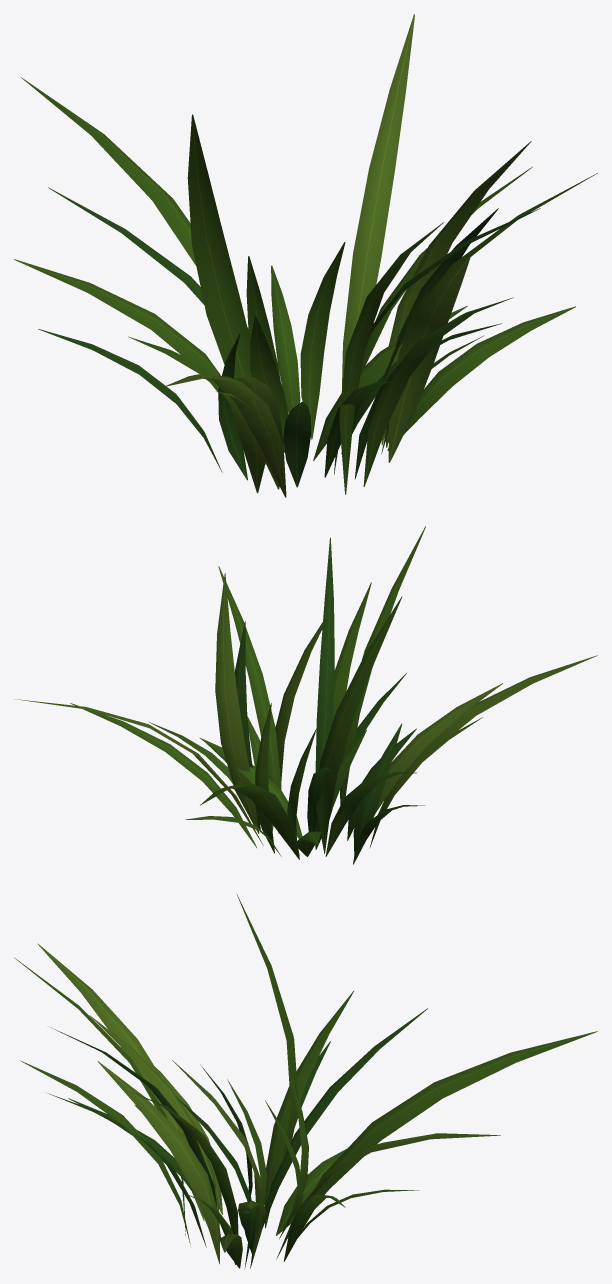
Rendered from Common_grass_1.glb.
3 views of the same model, one above another, from view 1: azimuth 30°, elevation 25°; view 2: azimuth 150°, elevation 25°; view 3: azimuth 270°, elevation 25° (orthographic). The views are drawn at different scales.
Parts seen in each view (by area): view 1: Common_grass_1_Leaves.004; view 2: Common_grass_1_Leaves.004; view 3: Common_grass_1_Leaves.004.
Boxes of the visible parts, x1,y1,x2,y2 form: Common_grass_1_Leaves.004: [14, 14, 597, 497]; Common_grass_1_Leaves.004: [14, 526, 597, 864]; Common_grass_1_Leaves.004: [14, 894, 597, 1269].
Bounding box in the file's own units: 1.09 × 0.7104 × 1.25.
Materials: 1 (1 with a texture image).
